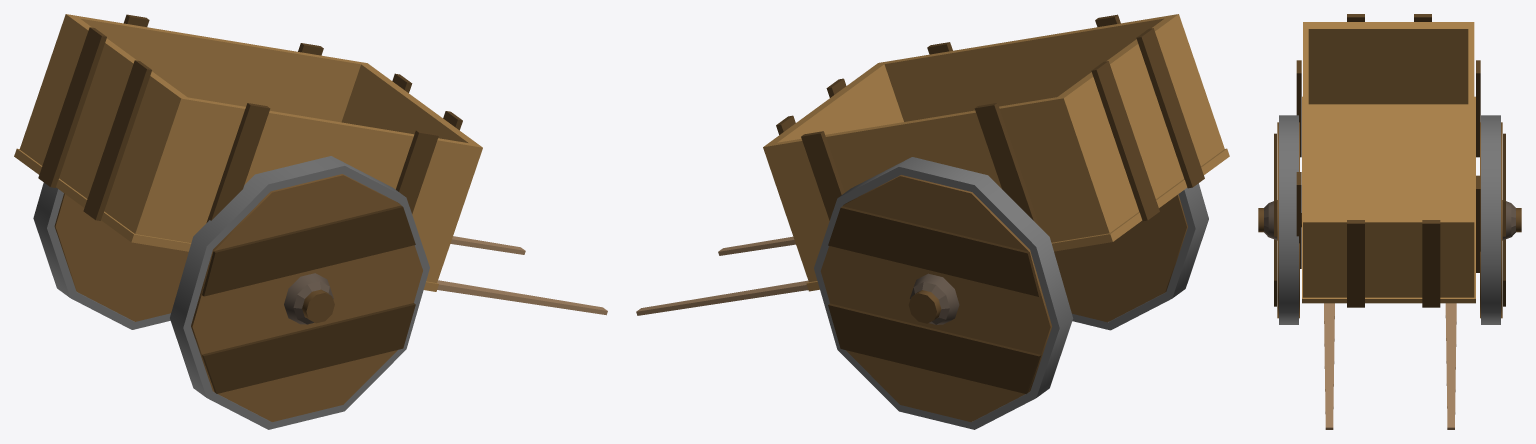
The model's file is Brouette.fbx.
The picture shows the model from 3 angles, left to right: view 1: azimuth 30°, elevation 25°; view 2: azimuth 150°, elevation 25°; view 3: azimuth 270°, elevation 25°; orthographic projection. The views are drawn at different scales.
Parts seen in each view (by area): view 1: polySurface1270; view 2: polySurface1270; view 3: polySurface1270.
Boxes of the visible parts, <box> form: polySurface1270: <box>14,14,607,429</box>; polySurface1270: <box>636,14,1229,429</box>; polySurface1270: <box>1258,14,1521,429</box>.
Size of the model in its own units: 2.11 by 1.4 by 1.3.
